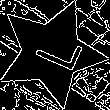L_NW: (21, 29, 81, 78)
